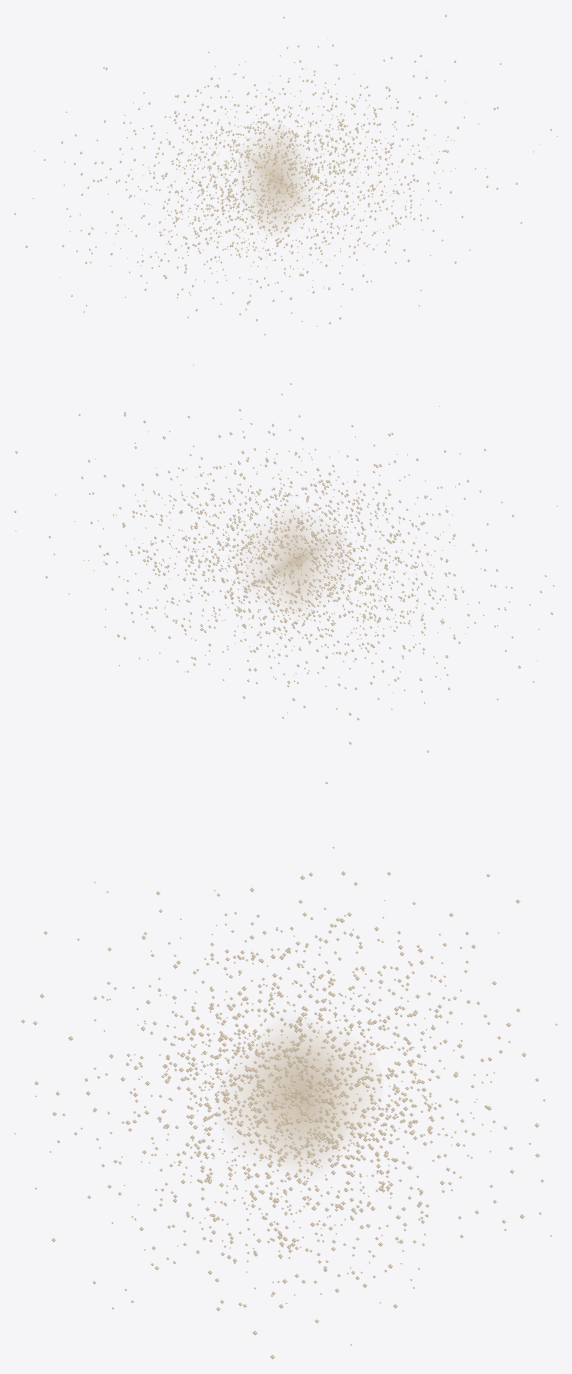
3 views of the same model, one above another, from view 1: azimuth 30°, elevation 25°; view 2: azimuth 150°, elevation 25°; view 3: azimuth 270°, elevation 25° (orthographic). The views are drawn at different scales.
Bounding box in the file's own units: 7.84 × 4.35 × 5.19.
